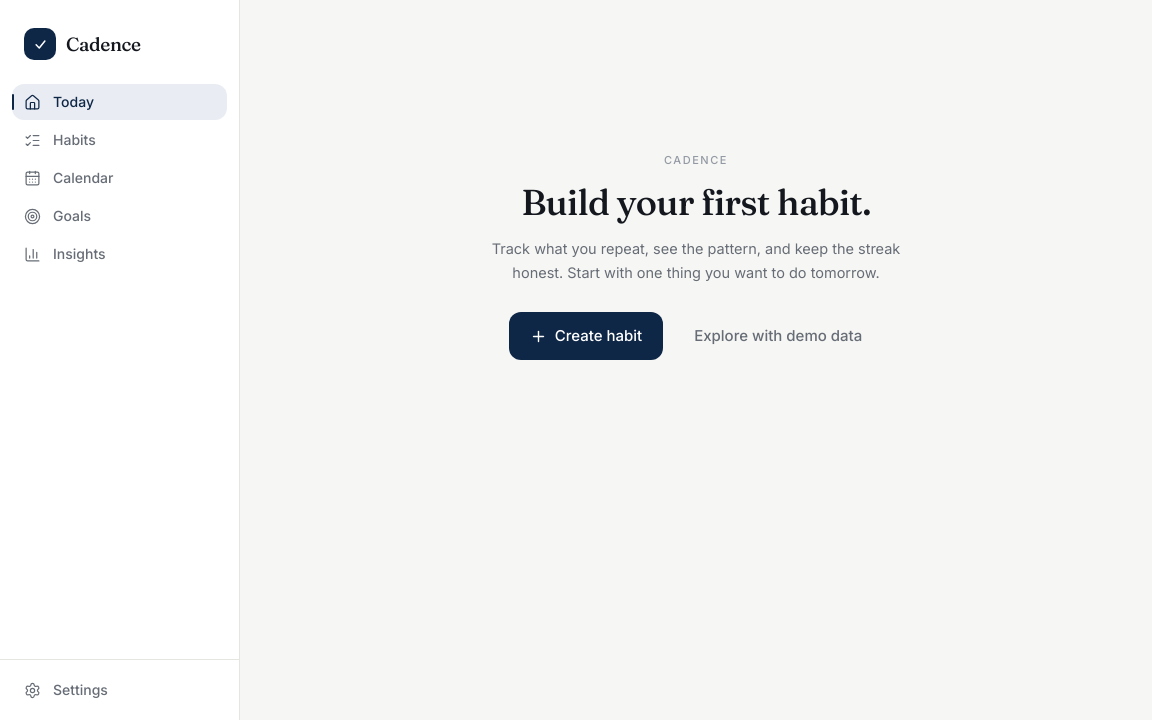
Test: creating a habit › walks from the empty state to a habit on today’s list
Click the button "Create habit".
click(586, 336)  # box x1=509 y1=312 x2=663 y2=360
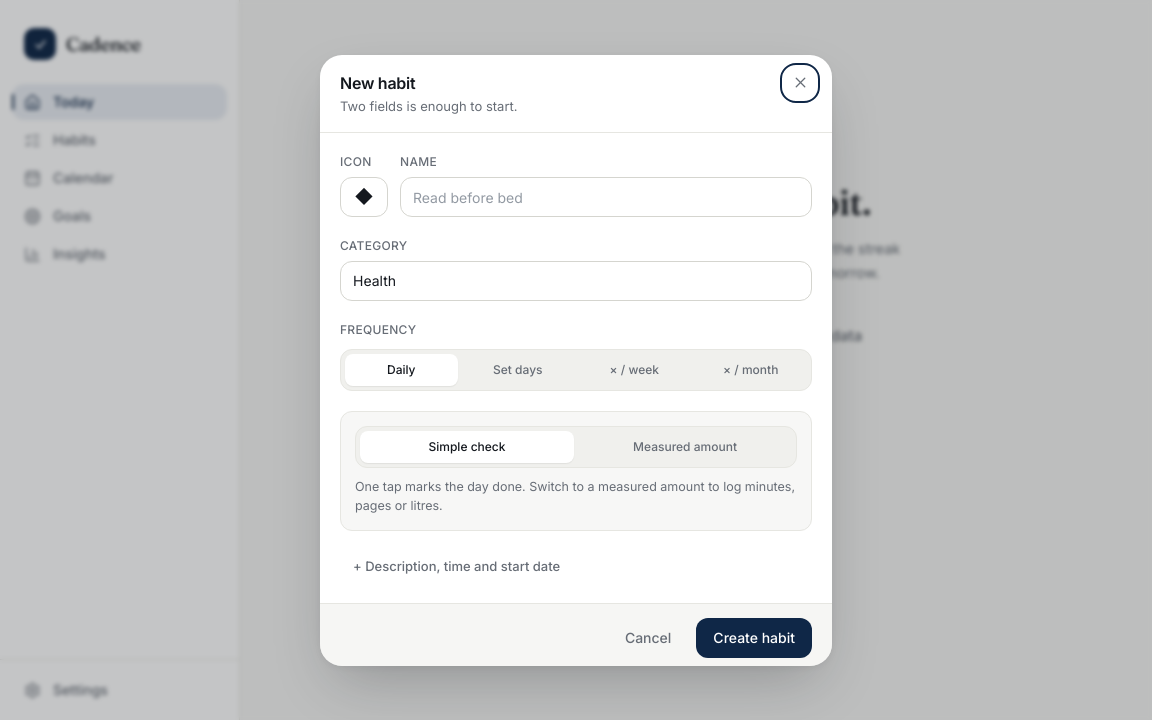
Type "Meditate" into the field labelled "Name".
click(606, 197); type("Meditate")  # box x1=400 y1=177 x2=812 y2=217
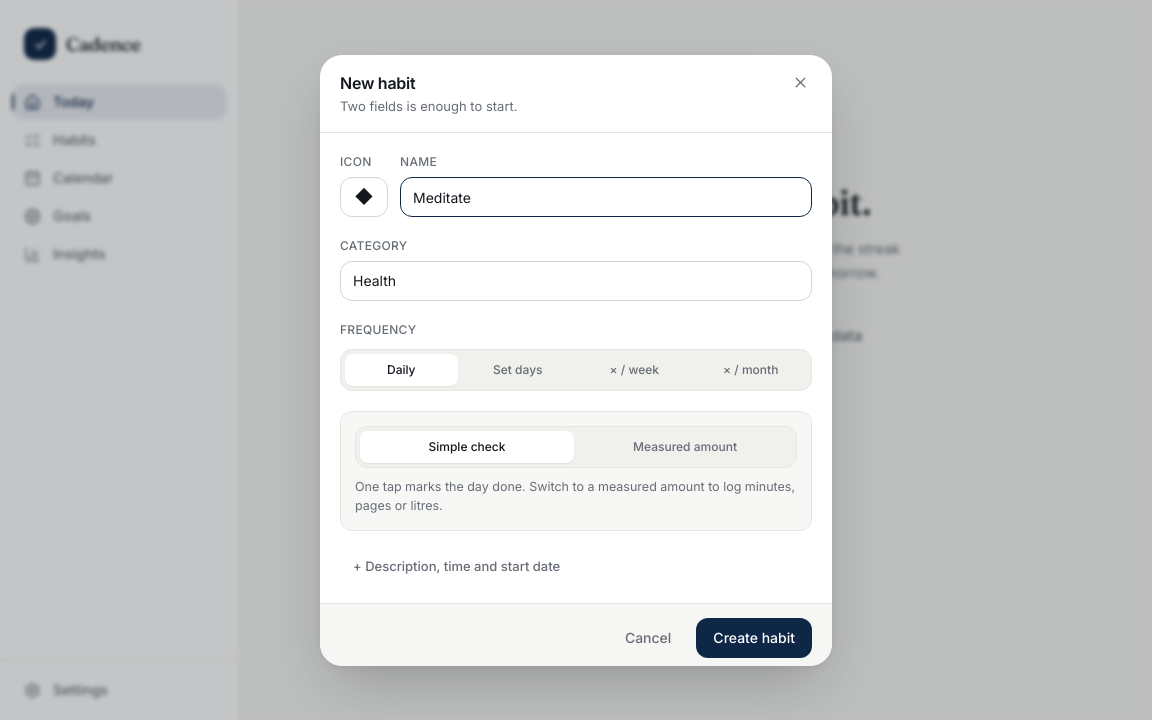
Click the button "Create habit".
click(754, 638)  # box x1=696 y1=618 x2=812 y2=658
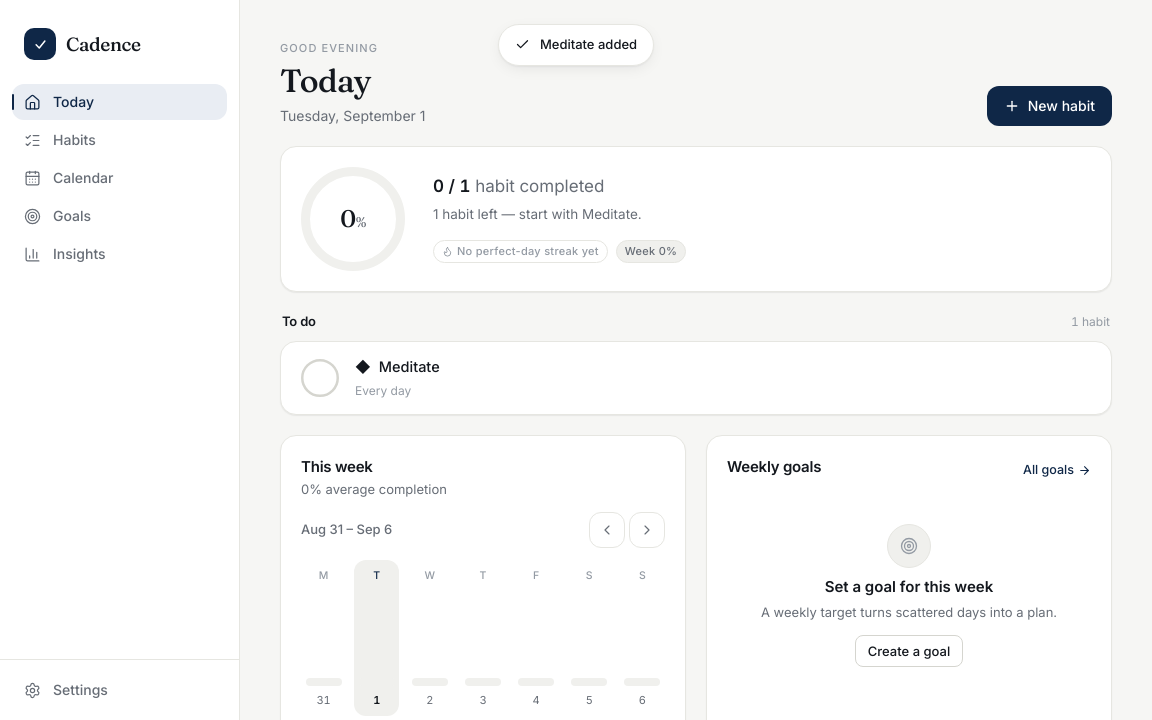
Result: the text "Meditate" is shown at x1=379 y1=356 x2=440 y2=378
